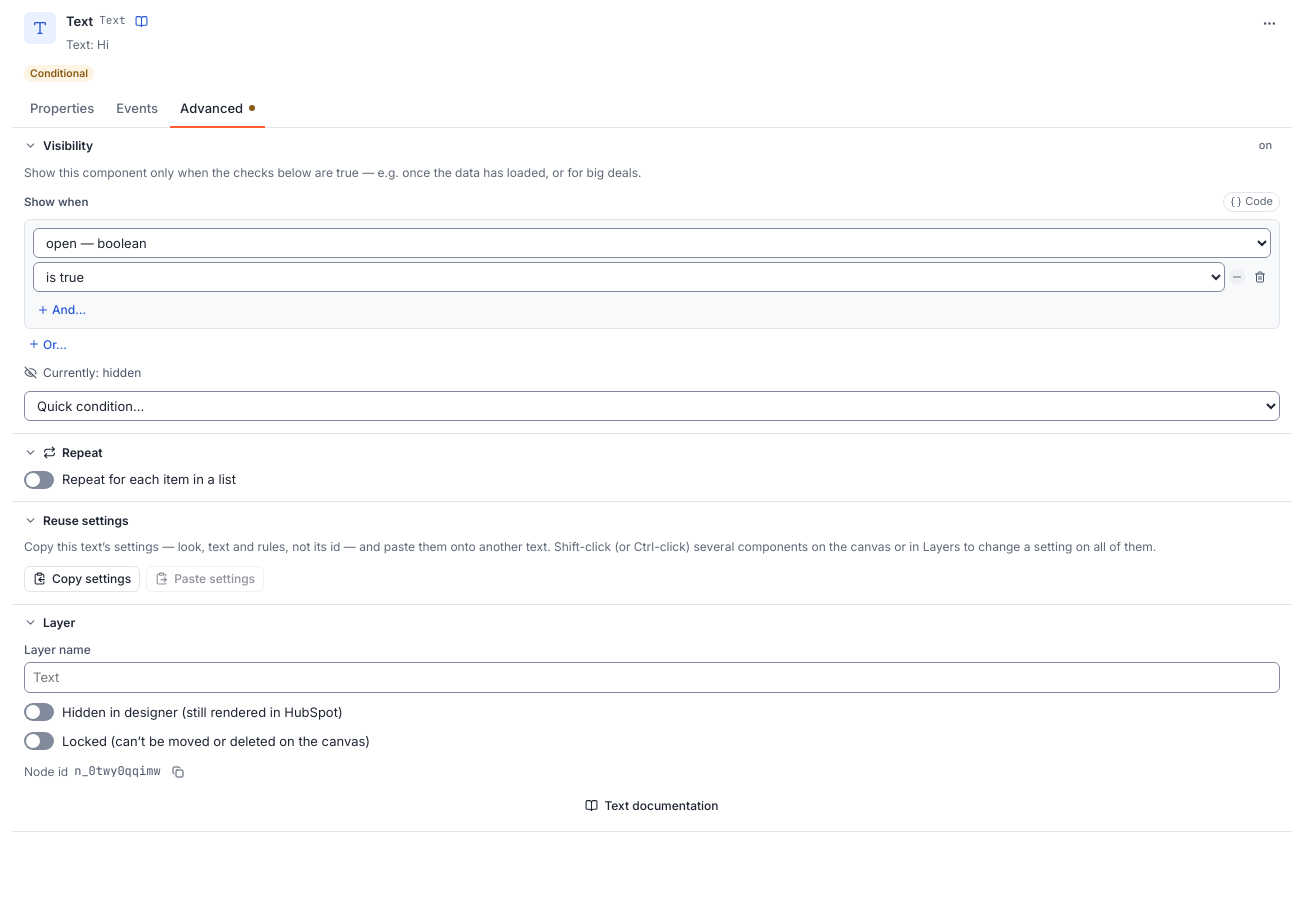
Scenario: condition builder: Advanced › Visibility › “is” on a true / false value starts at true, never at an empty value
The image size is (1292, 900).
Select "is" in the dropdown named "Check 1: comparison": {"x": 629, "y": 277} [33,262,1225,292]
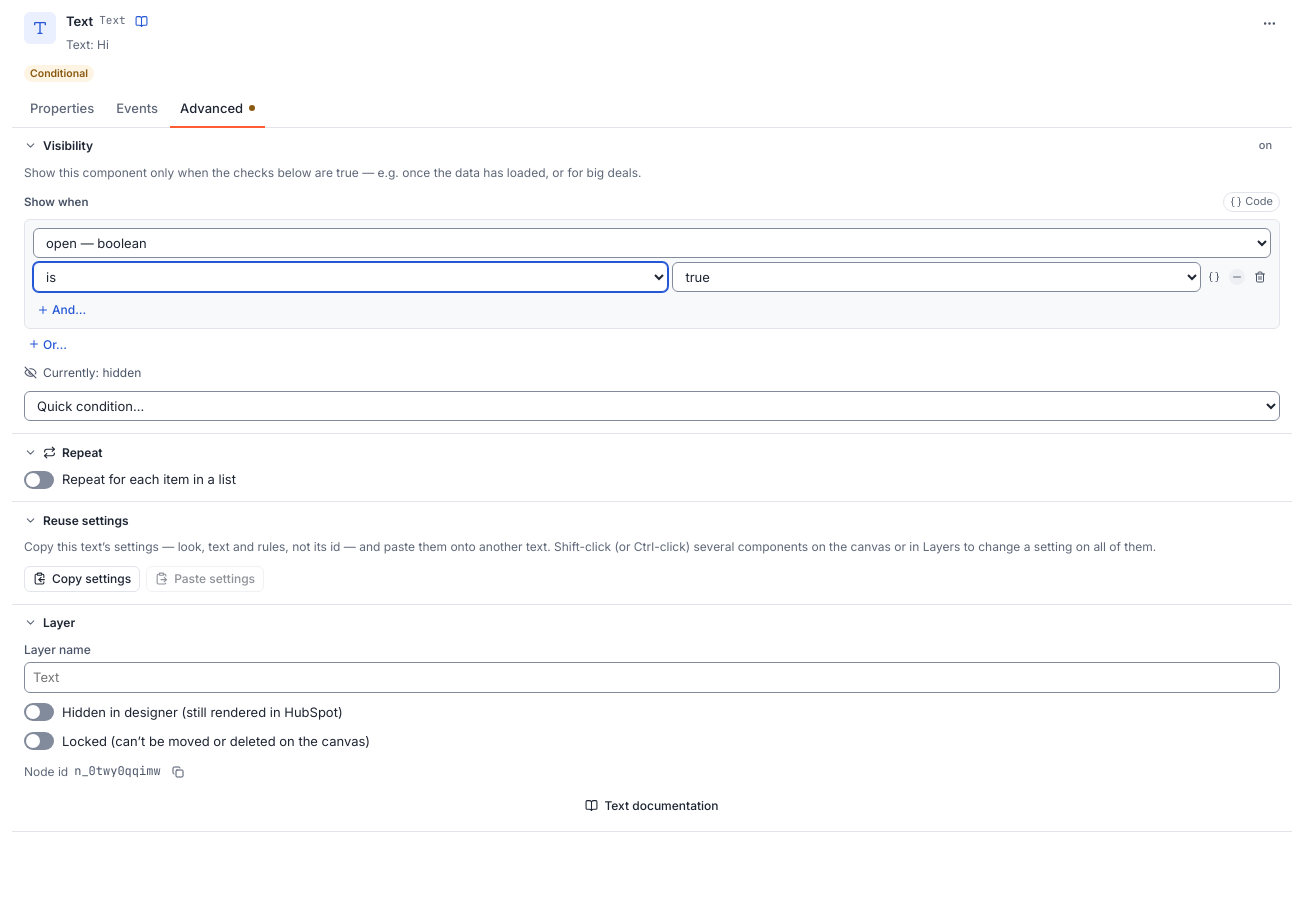
Result: the dropdown named "Check 1: value" shows "true" at [672,262,1201,292]
